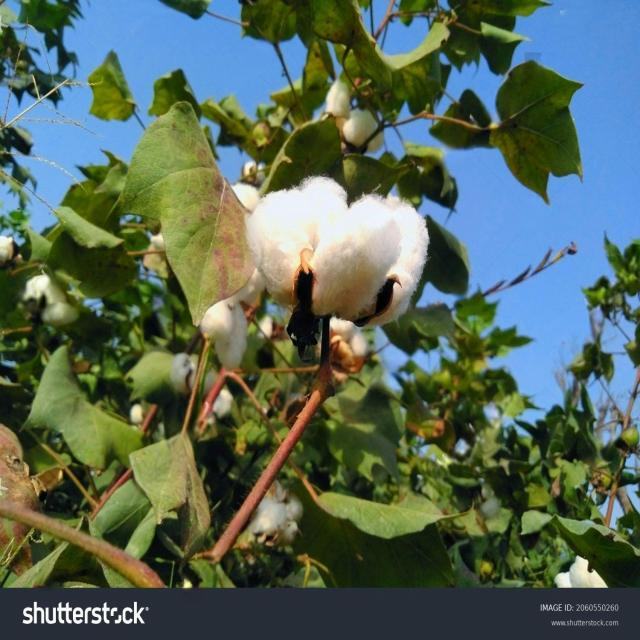Leaf: (238, 154, 441, 346), (237, 474, 315, 562)
